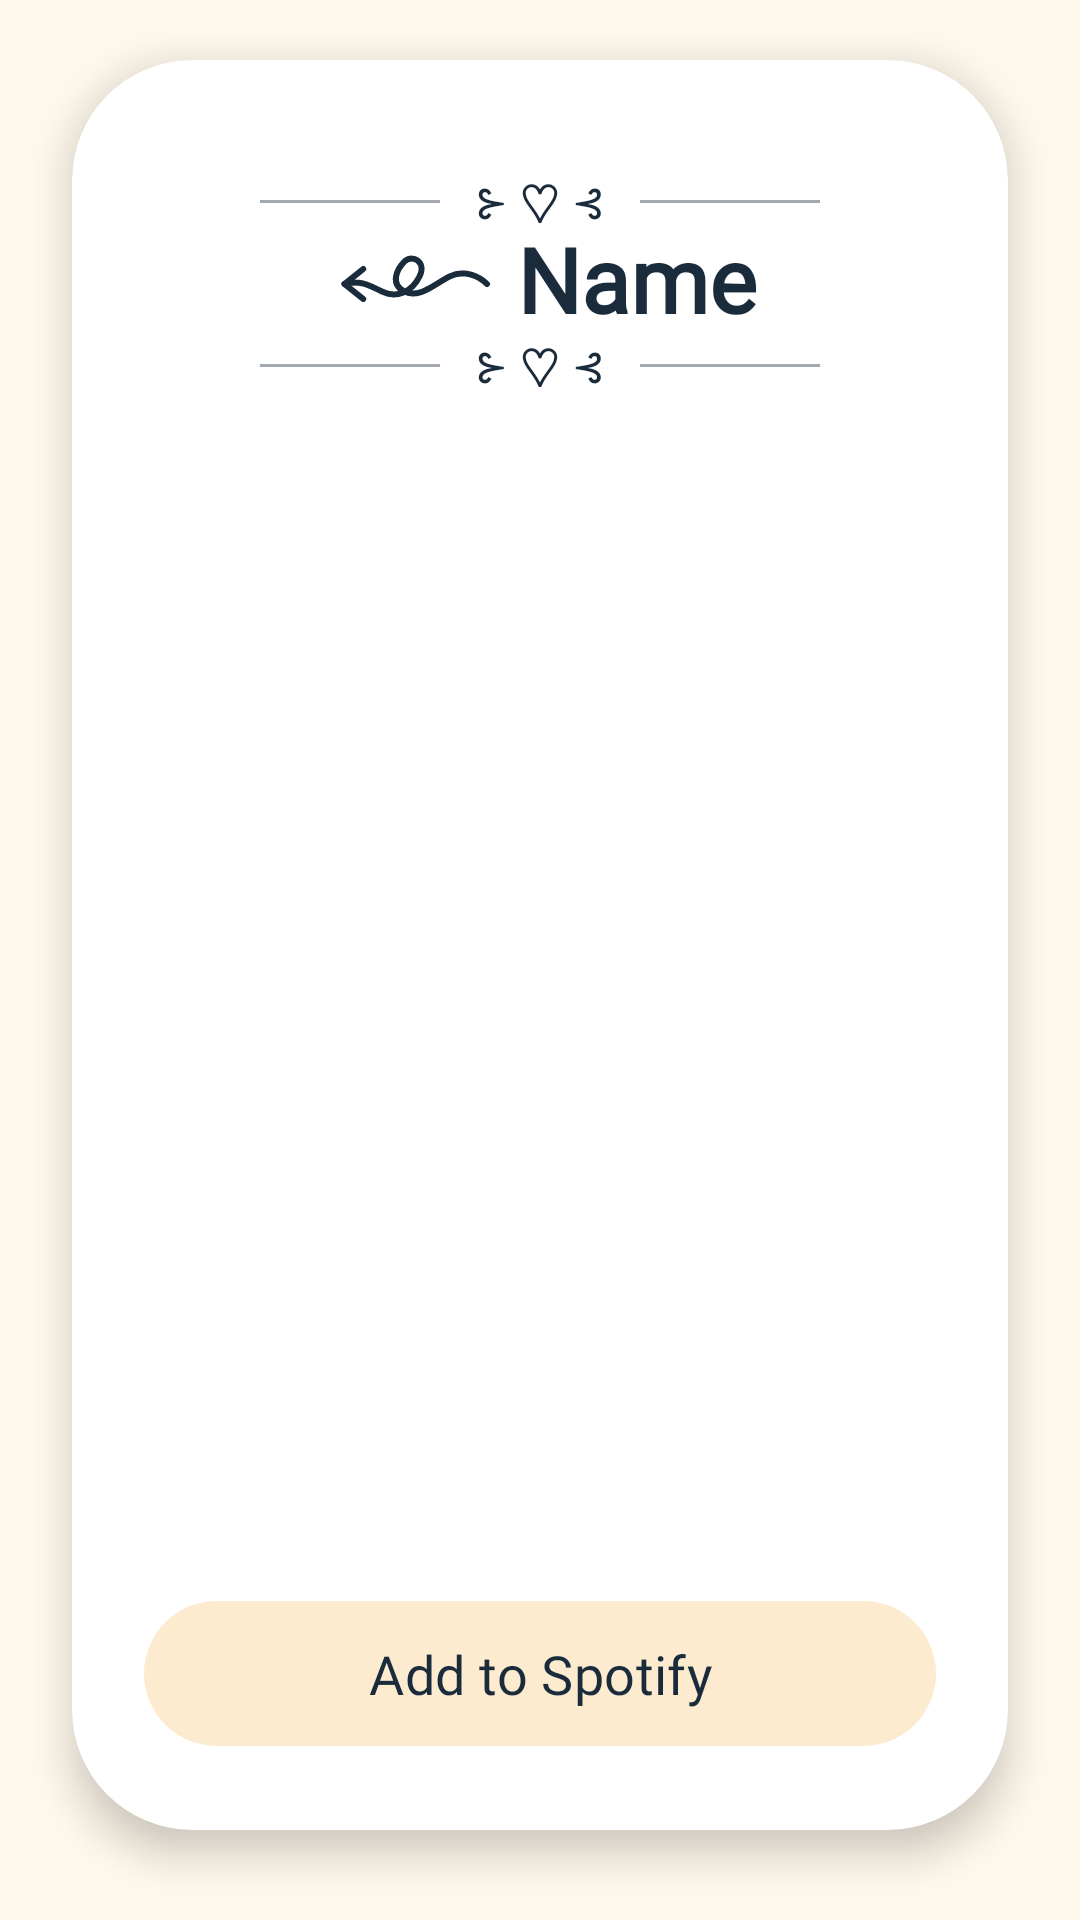

Point at icon controls on the screen. Image size 1080 × 1920, points as (x,y).
back: (415,278)
